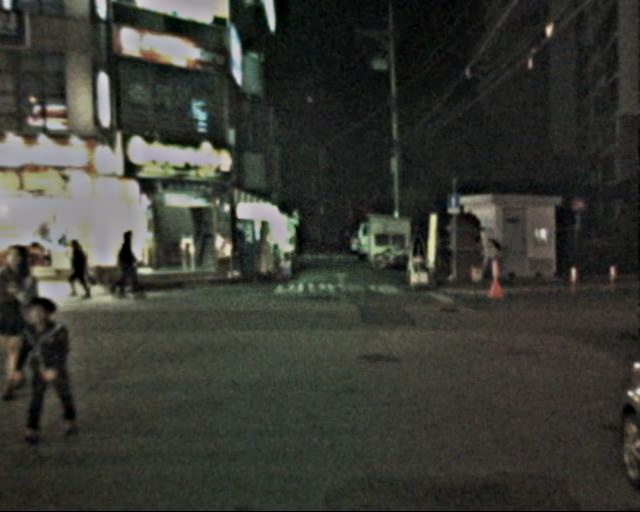person: (20, 287, 86, 448), (66, 231, 96, 300), (114, 231, 142, 299), (473, 226, 500, 294)
